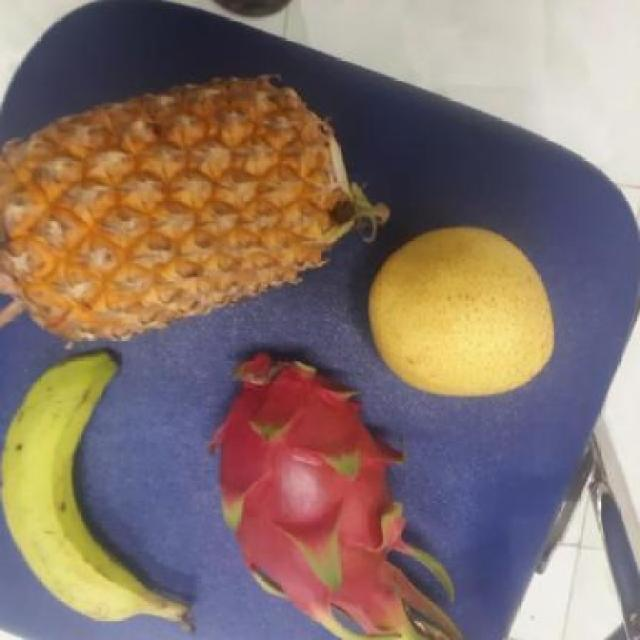banana: (0, 348, 180, 621)
dragon fruit: (203, 349, 428, 626)
pear: (356, 228, 556, 394)
pineapple: (0, 80, 362, 340)
